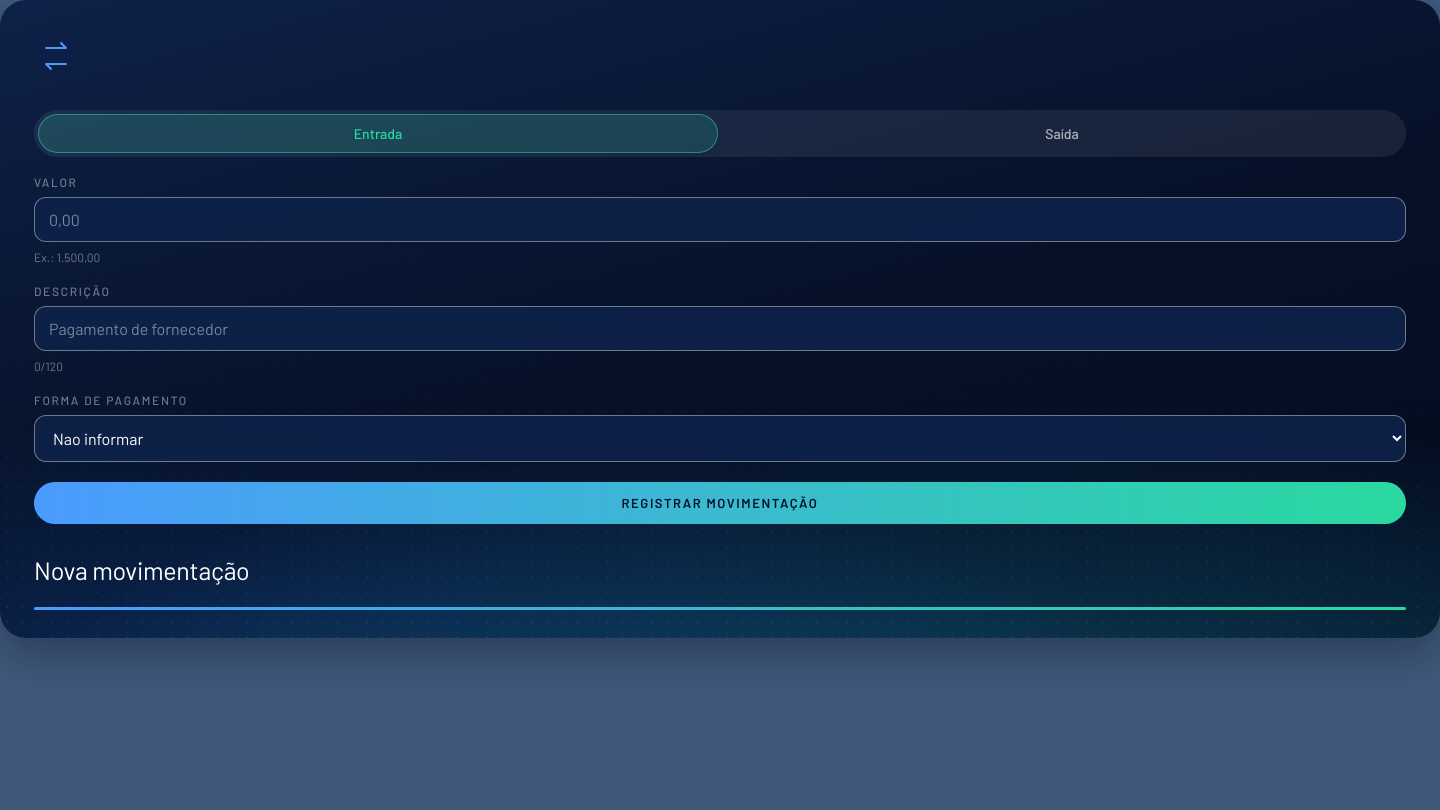
Test: MovimentacaoForm › nao envia sem descricao
Type "100" into the field with placeholder "0,00". click: {"x": 720, "y": 220}
box: [34,197,1406,242]
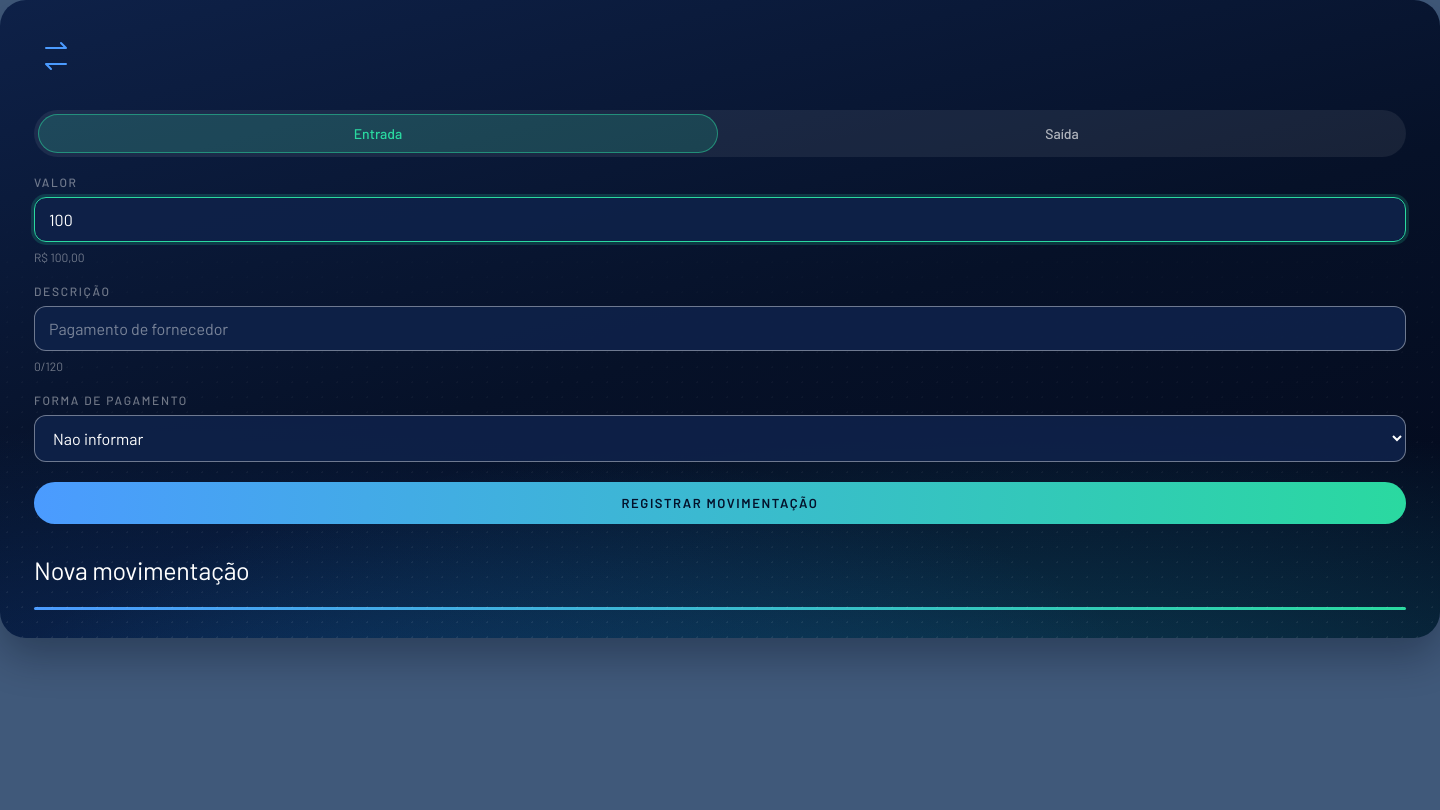
Click the button "Registrar movimentação". click: {"x": 720, "y": 503}
box: [34,482,1406,524]
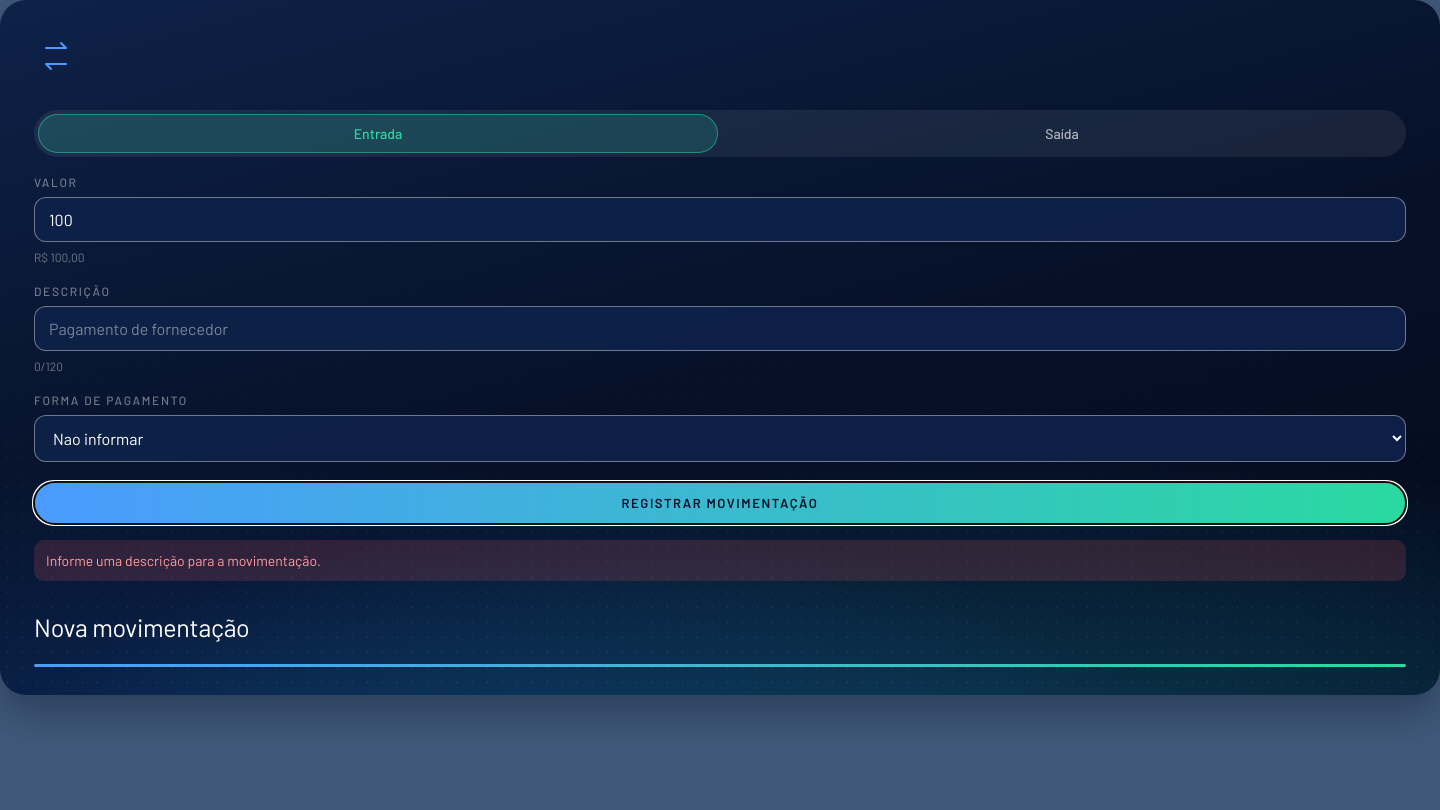
expect the message shows "Informe uma descrição": met, box [46,552,321,569]
